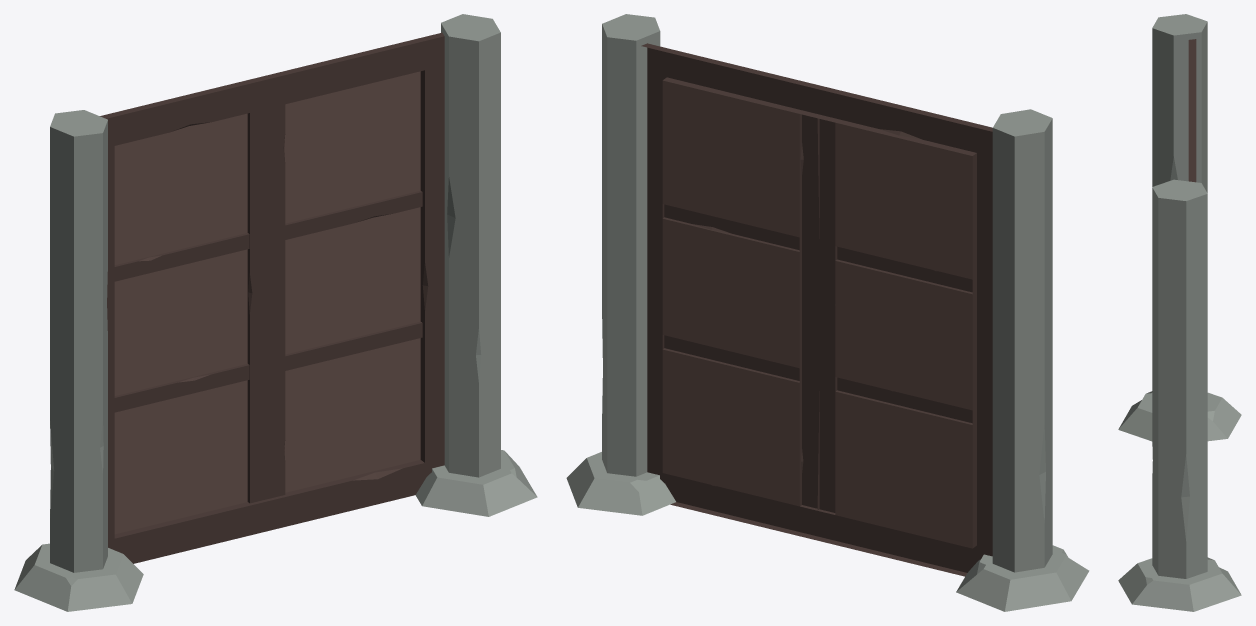
The model's file is SM_Env_Door_13.fbx.
The picture shows the model from 3 angles, left to right: view 1: azimuth 30°, elevation 25°; view 2: azimuth 150°, elevation 25°; view 3: azimuth 270°, elevation 25°; orthographic projection. The views are drawn at different scales.
Visible parts, largest first — view 1: SM_Env_Door_13; view 2: SM_Env_Door_13; view 3: SM_Env_Door_13.
Part boxes in pixels (<box>): SM_Env_Door_13: <box>14,14,537,611</box>; SM_Env_Door_13: <box>566,14,1089,611</box>; SM_Env_Door_13: <box>1118,14,1241,611</box>.
Size of the model in its own units: 217 by 188 by 53.1.
1 material, 1 textured.
